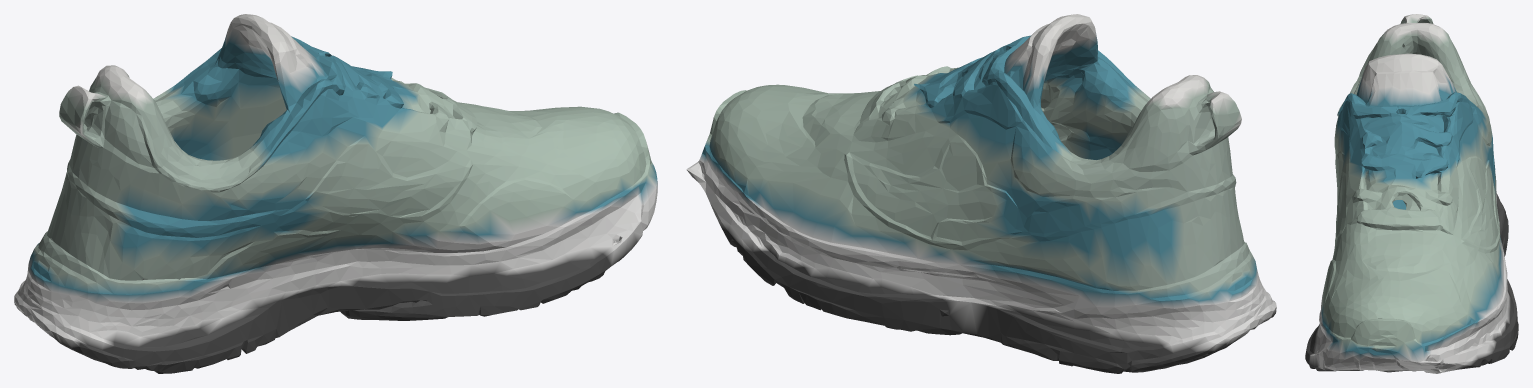
The model's file is shoe-model.glb.
The picture shows the model from 3 angles, left to right: view 1: azimuth 30°, elevation 25°; view 2: azimuth 150°, elevation 25°; view 3: azimuth 270°, elevation 25°; orthographic projection. The views are drawn at different scales.
Visible parts, largest first — view 1: world; view 2: world; view 3: world.
Boxes of the visible parts, left/top/right/bottom form: world: left=14, top=14, right=657, bottom=373; world: left=686, top=14, right=1276, bottom=373; world: left=1305, top=14, right=1518, bottom=373.
Size of the model in its own units: 1 by 0.4865 by 0.4156.
